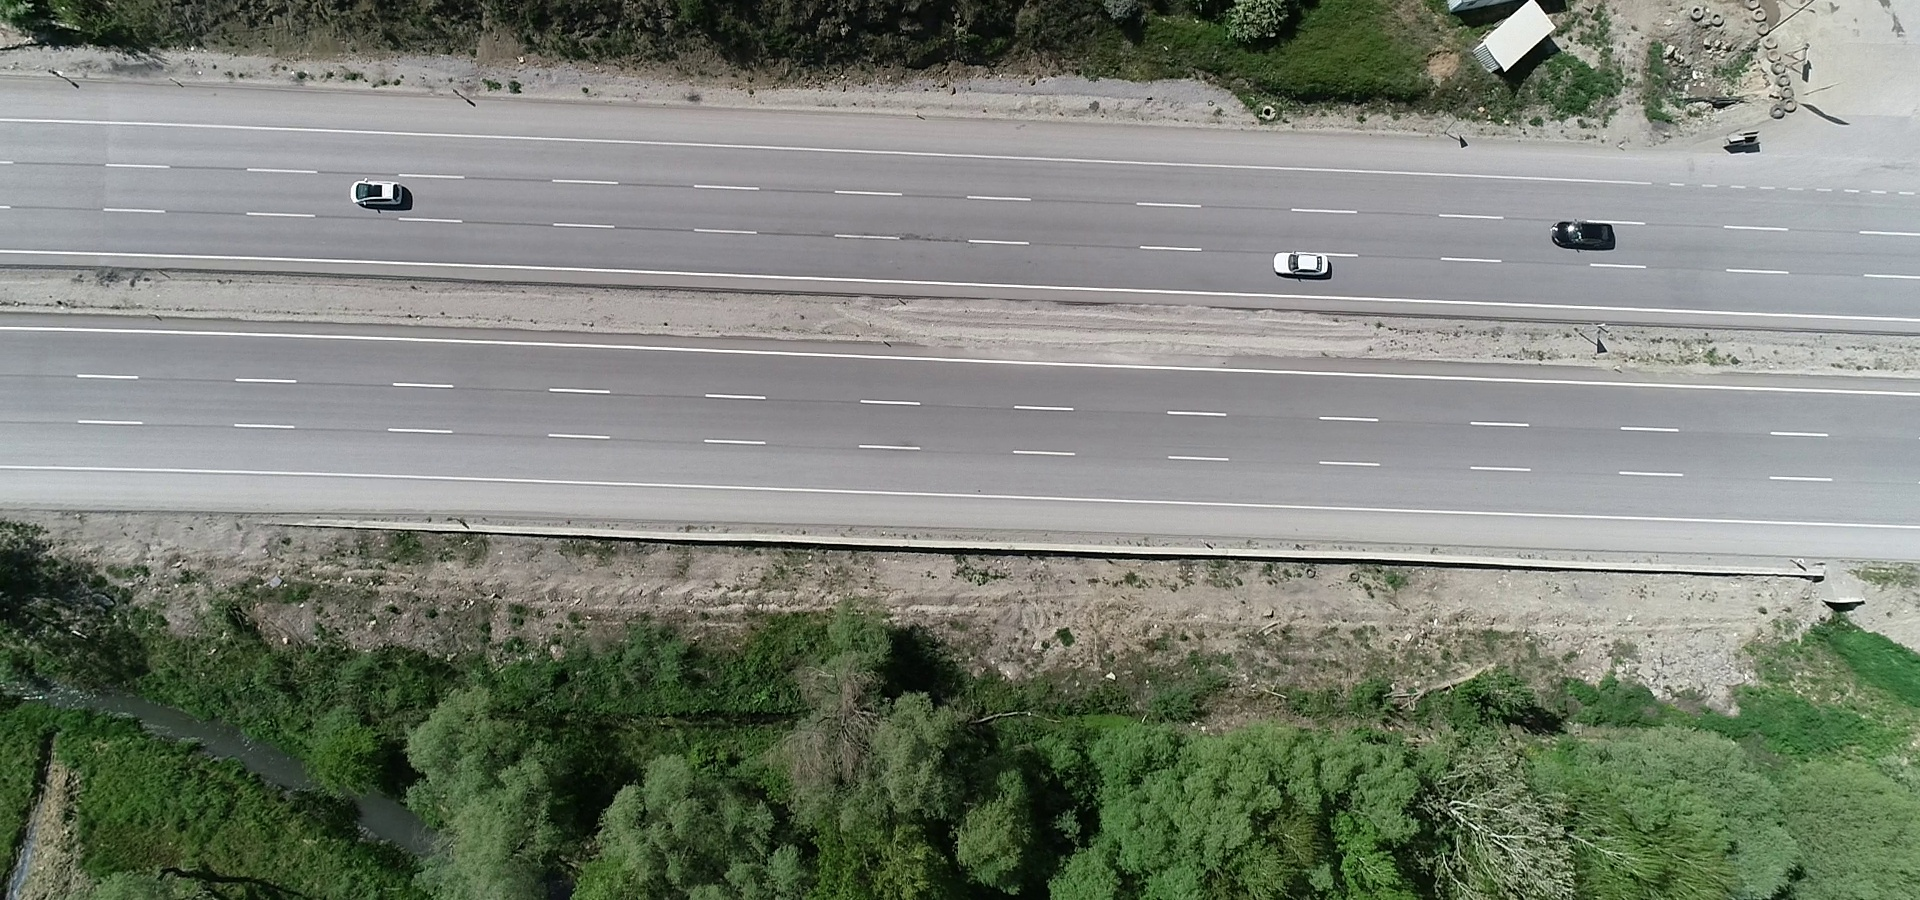araba: (1548, 219, 1621, 253), (350, 170, 411, 211), (1269, 246, 1332, 278)
